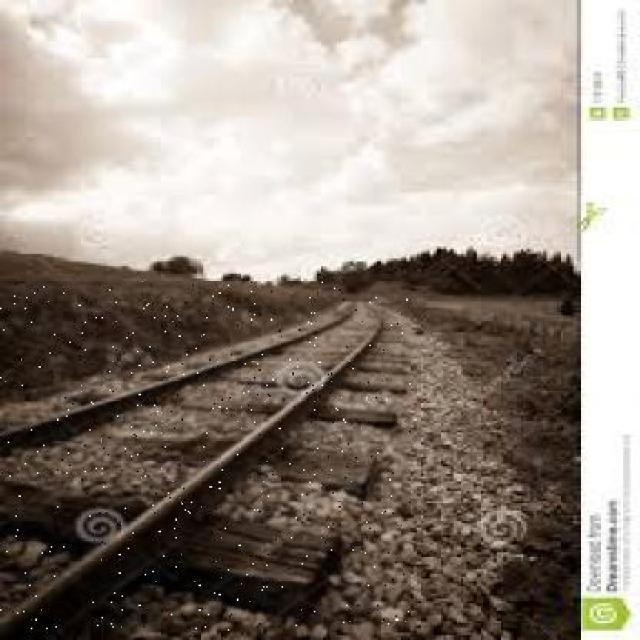rail: (0, 281, 411, 631)
